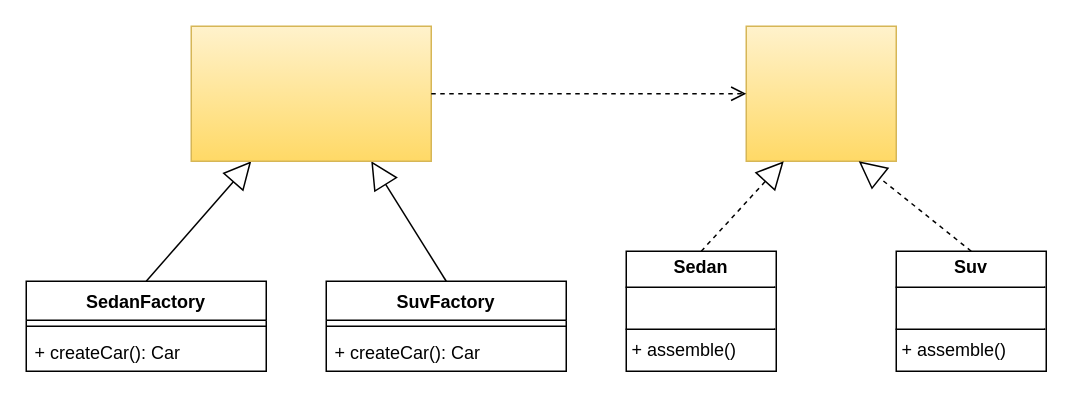
Image size: 1073x402. Some labels were removed from this diagram. Here are the shapes that lost their labels. From the top down, the box of each, then its label:
(190, 25, 431, 161): CarFactory + createCar(): Car
(745, 25, 896, 161): Car + assemble()
